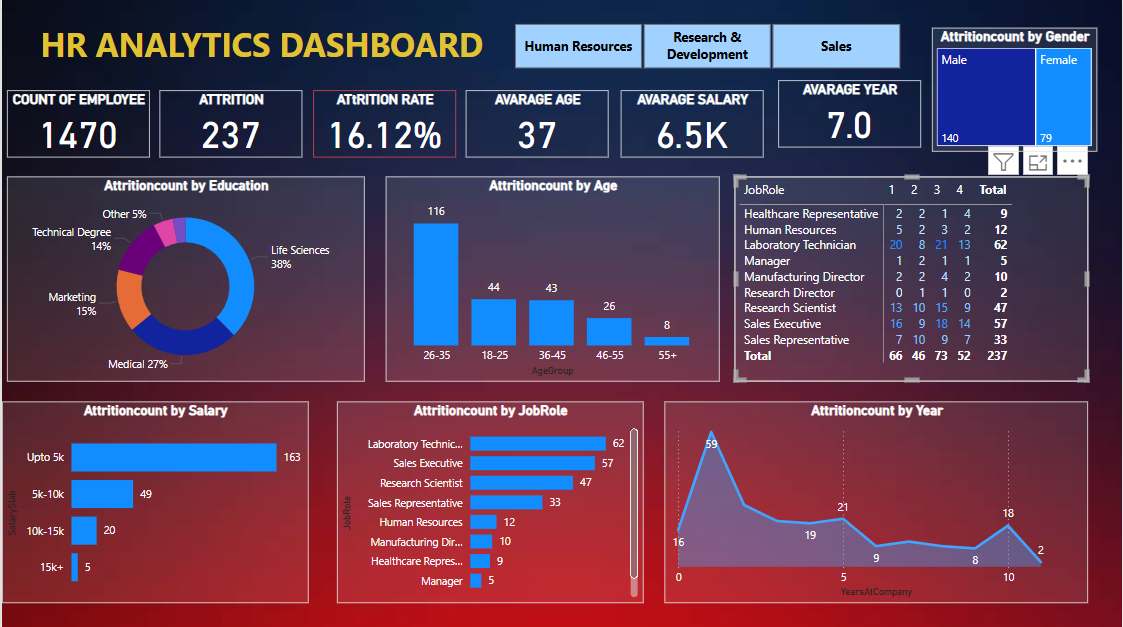

What the dashboard file says about the page in this screenshot:
{"tool":"powerbi","page":{"name":"Page 1","canvas":[1280,720],"ordinal":0},"visuals":[{"type":"card","title":"COUNT OF EMPLOYEE","fields":{"Values":["CountNonNull(HR_Analytics (2).EmpID)"]},"box":[5.7,104.3,162.9,77.1],"z":0},{"type":"card","title":"ATTTRITION","fields":{"Values":["Sum(HR_Analytics (2).attritioncount)"]},"box":[180,104.3,162.9,77.1],"z":1000},{"type":"card","title":"ATRRITION RATE","fields":{"Values":["HR_Analytics (2).AttritionRate"]},"box":[355.7,104.3,162.9,77.1],"z":2000},{"type":"card","title":"AVARAGE AGE","fields":{"Values":["Avg(HR_Analytics (2).Age)"]},"box":[530,104.3,162.9,77.1],"z":3000},{"type":"card","title":"AVARAGE SALARY","fields":{"Values":["Avg(HR_Analytics (2).MonthlyIncome)"]},"box":[707.1,104.3,162.9,77.1],"z":4000},{"type":"card","title":"AVARAGE YEAR","fields":{"Values":["Avg(HR_Analytics (2).YearsAtCompany)"]},"box":[887.1,92.9,162.9,77.1],"z":5000},{"type":"donutChart","title":"Attritioncount by Education","fields":{"Category":["HR_Analytics (2).EducationField"],"Y":["Sum(HR_Analytics (2).attritioncount)"]},"box":[5.7,202.9,350,234.3],"z":6000},{"type":"columnChart","title":"Attritioncount by Age","fields":{"Category":["HR_Analytics (2).AgeGroup"],"Y":["Sum(HR_Analytics (2).attritioncount)"]},"box":[382.9,202.9,350,234.3],"z":7000},{"type":"pivotTable","fields":{"Rows":["HR_Analytics (2).JobRole"],"Columns":["HR_Analytics (2).JobSatisfaction"],"Values":["Sum(HR_Analytics (2).attritioncount)"]},"box":[757.1,202.9,330,234.3],"z":8000},{"type":"barChart","title":"Attritioncount by Age","fields":{"Category":["HR_Analytics (2).SalarySlab"],"Y":["Sum(HR_Analytics (2).attritioncount)"]},"box":[0,460,350,230],"z":9000},{"type":"barChart","title":"Attritioncount by Age","fields":{"Category":["HR_Analytics (2).JobRole"],"Y":["Sum(HR_Analytics (2).attritioncount)"]},"box":[382.9,460,350,230],"z":10000},{"type":"areaChart","title":"Attritioncount by Age","fields":{"Category":["HR_Analytics (2).YearsAtCompany"],"Y":["Sum(HR_Analytics (2).attritioncount)"]},"box":[757.1,460,484.3,230],"z":11000},{"type":"treemap","title":"Attritioncount by Age","fields":{"Group":["HR_Analytics (2).Gender"],"Values":["Sum(HR_Analytics (2).attritioncount)"]},"box":[1062.9,32.9,188.6,141.4],"z":12000},{"type":"slicer","fields":{"Values":["HR_Analytics (2).Department"]},"box":[560,21.4,490,64.3],"z":13000},{"type":"textbox","box":[38.6,21.4,750,110],"z":14000}]}

Visuals, with their boxes in screenshot pixels (x1, y1, x2, y2), scaled from the page's 1280x720 canvas onto the 1123x627 screenshot:
"COUNT OF EMPLOYEE" card: x1=5, y1=91, x2=148, y2=158
"ATTTRITION" card: x1=158, y1=91, x2=301, y2=158
"ATRRITION RATE" card: x1=312, y1=91, x2=455, y2=158
"AVARAGE AGE" card: x1=465, y1=91, x2=608, y2=158
"AVARAGE SALARY" card: x1=620, y1=91, x2=763, y2=158
"AVARAGE YEAR" card: x1=778, y1=81, x2=921, y2=148
"Attritioncount by Education" donutChart: x1=5, y1=177, x2=312, y2=381
"Attritioncount by Age" columnChart: x1=336, y1=177, x2=643, y2=381
pivotTable - HR_Analytics (2).JobRole x HR_Analytics (2).JobSatisfaction: x1=664, y1=177, x2=954, y2=381
"Attritioncount by Age" barChart: x1=0, y1=401, x2=307, y2=601
"Attritioncount by Age" barChart: x1=336, y1=401, x2=643, y2=601
"Attritioncount by Age" areaChart: x1=664, y1=401, x2=1089, y2=601
"Attritioncount by Age" treemap: x1=933, y1=29, x2=1098, y2=152
slicer - HR_Analytics (2).Department: x1=491, y1=19, x2=921, y2=75
textbox: x1=34, y1=19, x2=692, y2=114
